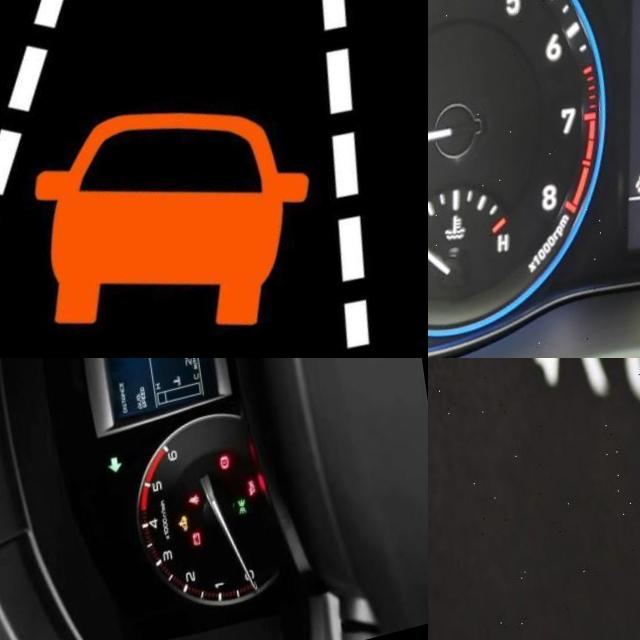Seat Belt: (174, 512, 187, 524)
